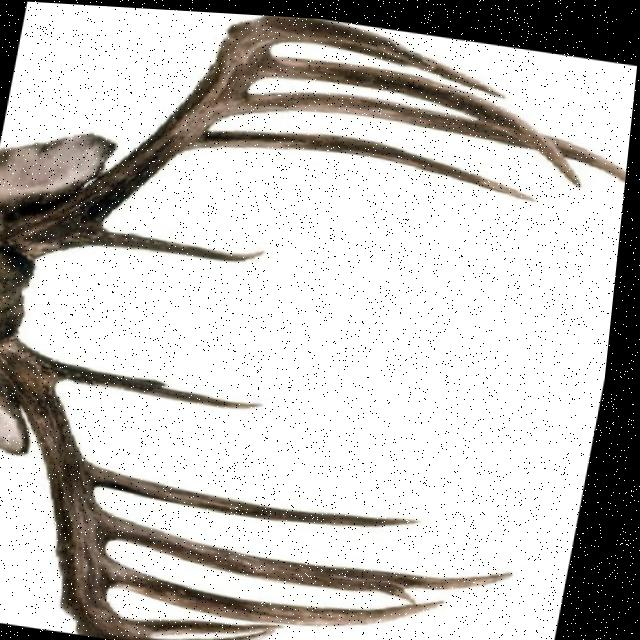E1: (392, 583, 432, 598)
L-F: (3, 12, 511, 263)
L-G1: (81, 223, 272, 258)
L-G2: (184, 125, 542, 195)
L-G3: (254, 46, 587, 183)
R-F: (0, 330, 289, 640)
R-G1: (46, 348, 276, 406)
R-G2: (97, 456, 434, 522)
R-G3: (111, 502, 525, 587)
R-G4: (119, 549, 460, 620)
R-G5: (126, 607, 300, 634)
